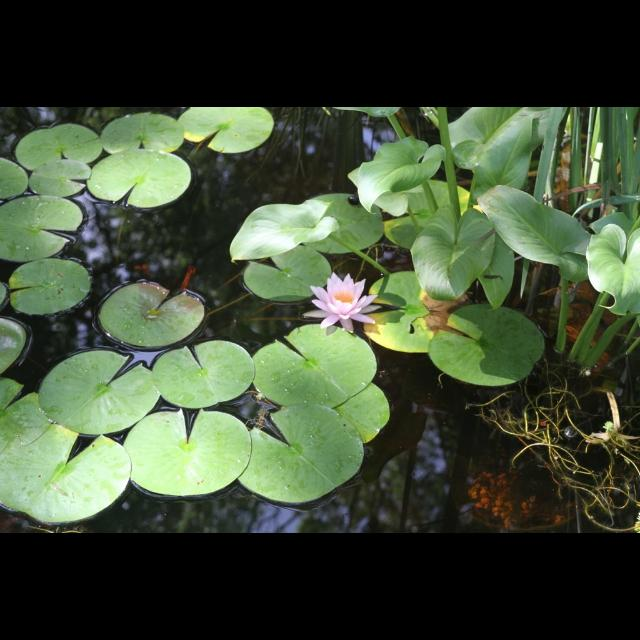Flower: (310, 268, 384, 336)
